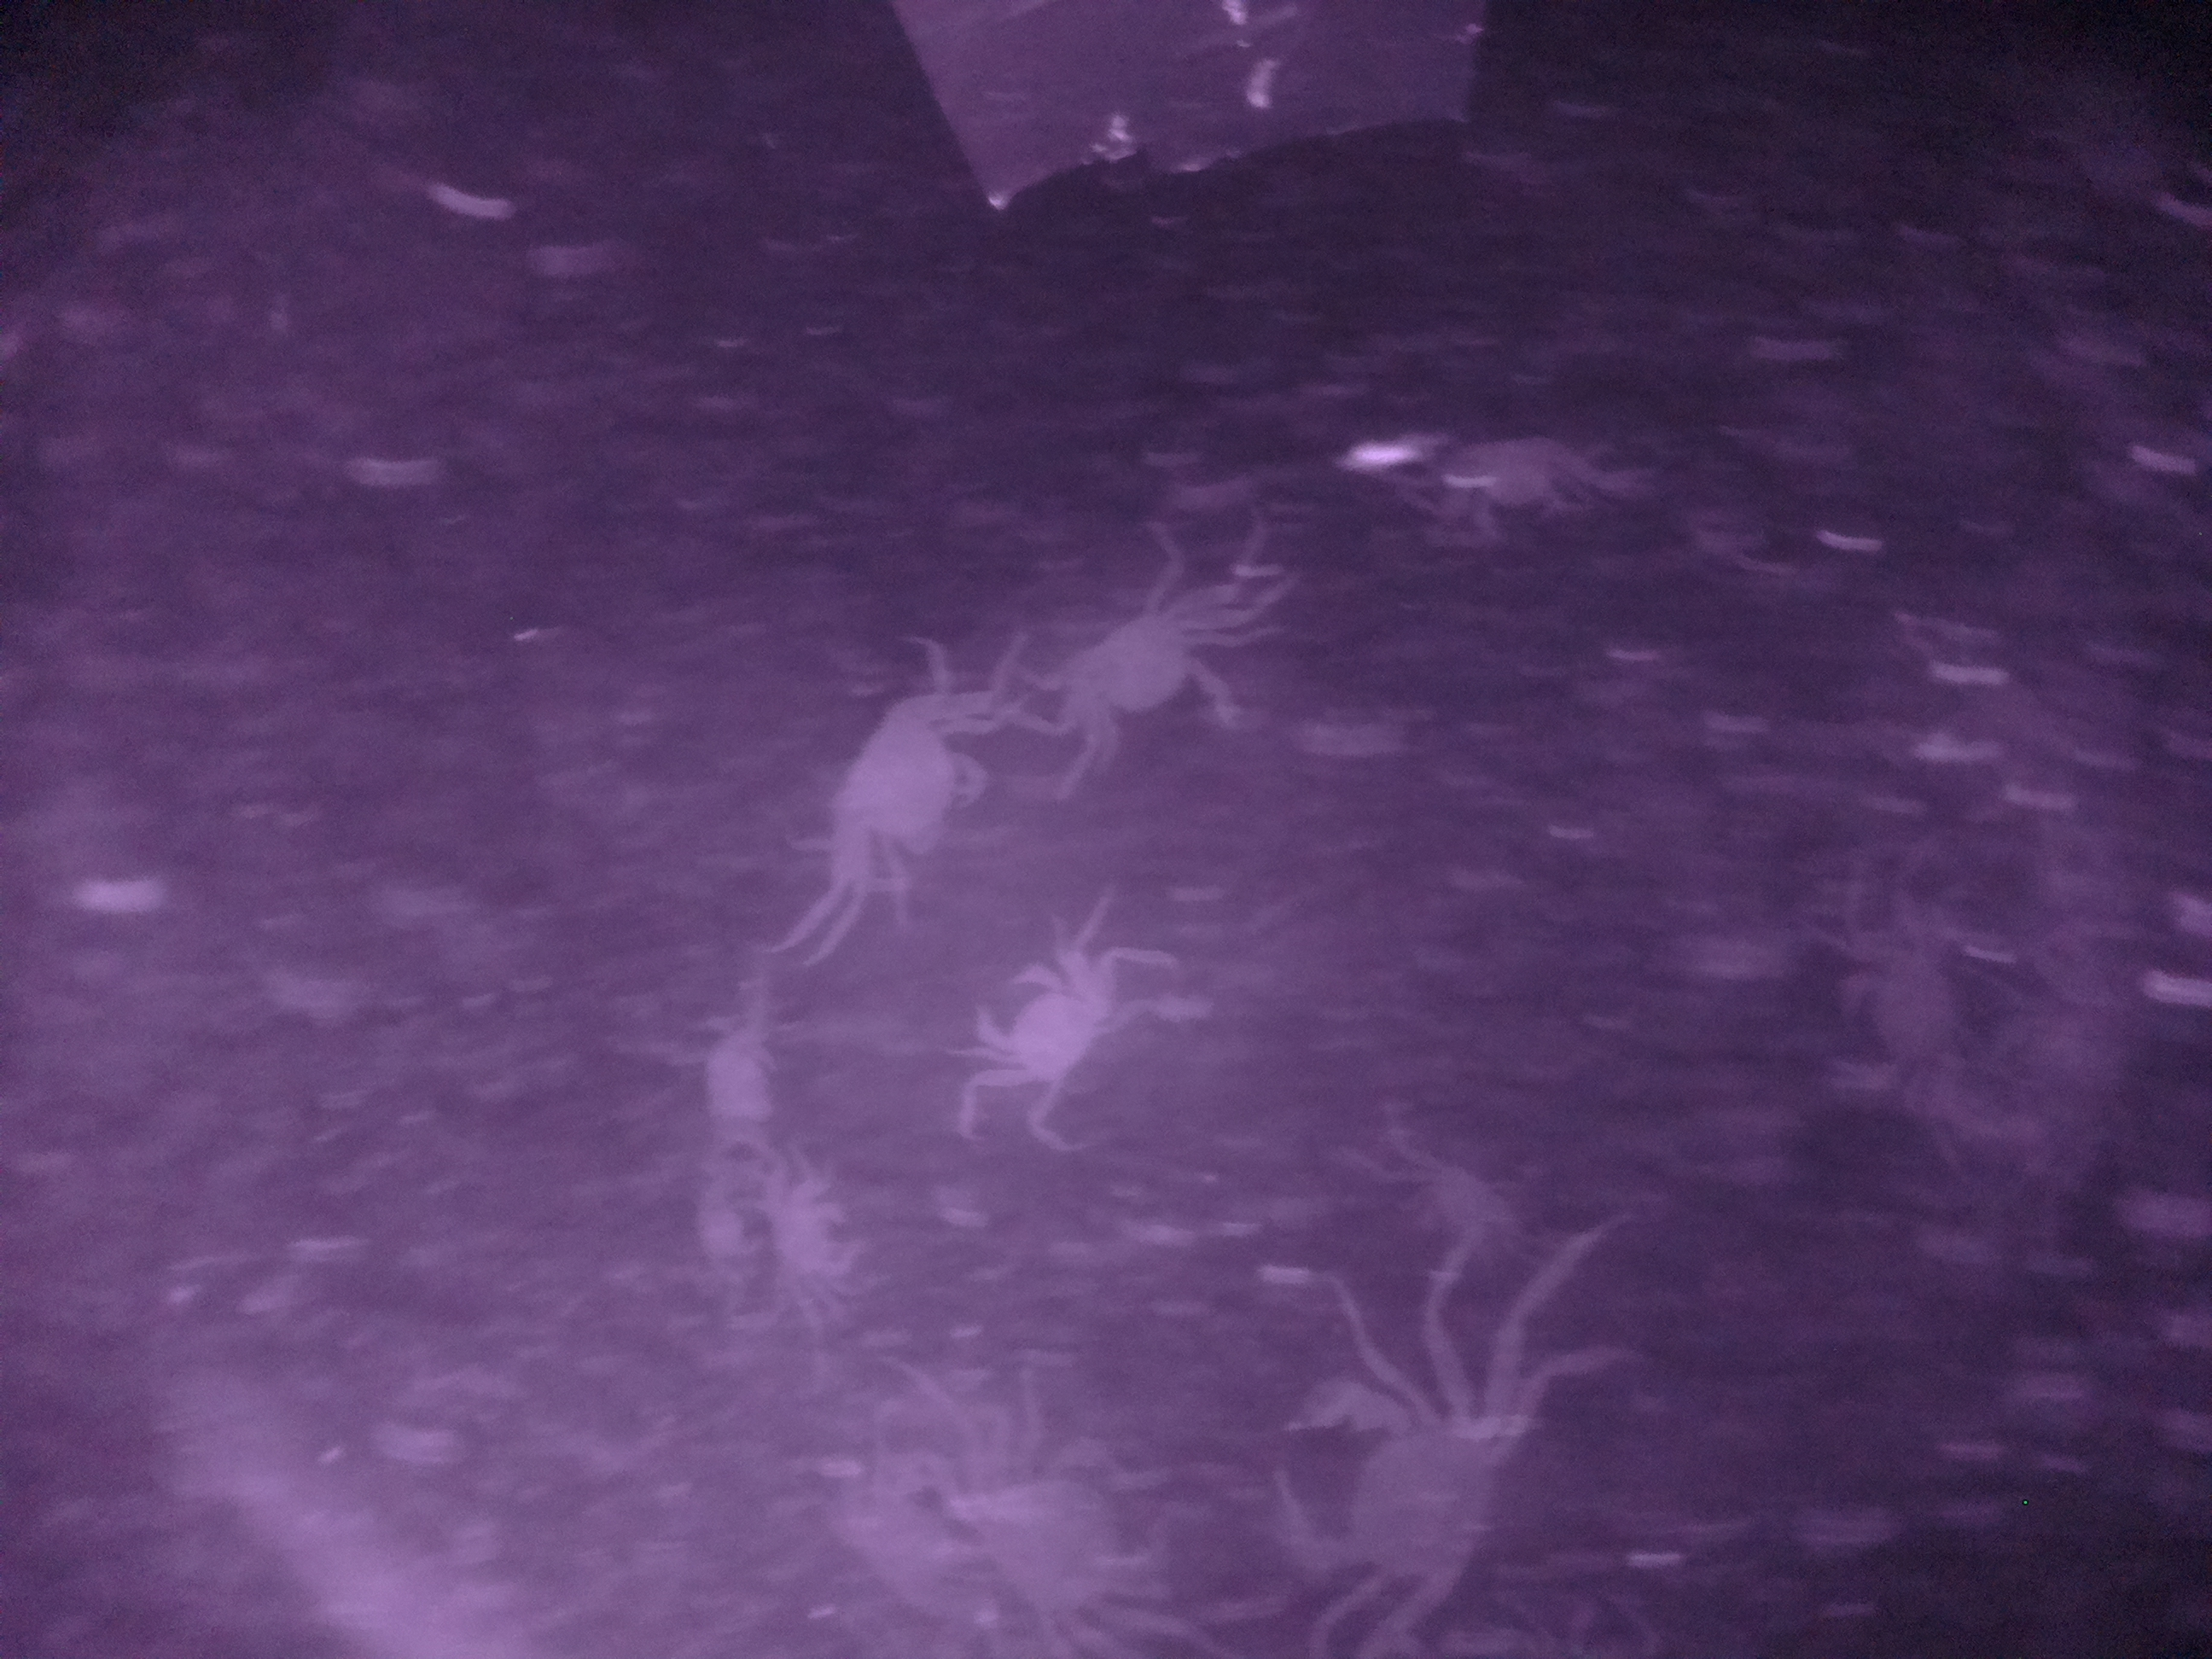Crab: (1259, 1370, 1550, 1621), (1036, 561, 1258, 791), (949, 927, 1132, 1129), (822, 662, 988, 884)
